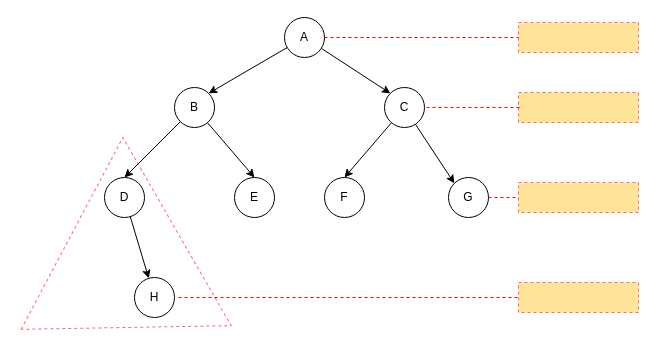
The diagram is 656 pixels wide and 347 high, and some of its shapes have lost their labels. The centre of each missing label's shape, as x and y in pixels:
"1层" goes at (578,37).
"2层" goes at (578,107).
"3层" goes at (578,197).
"4层" goes at (578,297).
